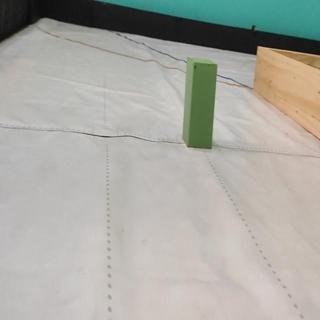greenbox: (183, 57, 219, 148)
